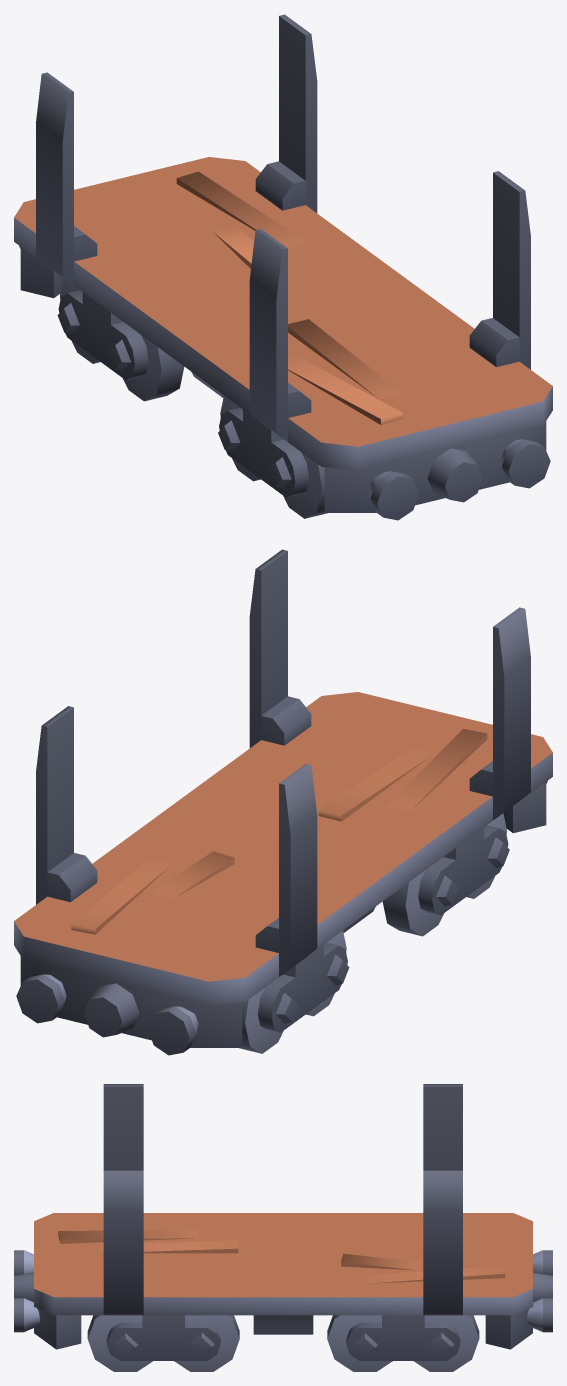
The model's file is train-carriage-flatbed-wood.glb.
3 views of the same model, one above another, from view 1: azimuth 30°, elevation 25°; view 2: azimuth 150°, elevation 25°; view 3: azimuth 270°, elevation 25° (orthographic). The views are drawn at different scales.
Parts seen in each view (by area): view 1: train-carriage-flatbed-wood, wheels-back, wheels-front; view 2: train-carriage-flatbed-wood, wheels-front, wheels-back; view 3: train-carriage-flatbed-wood, wheels-front, wheels-back.
Boxes of the visible parts, x1,y1,x2,y2 form: train-carriage-flatbed-wood: (14,14,552,520); wheels-back: (57,278,184,401); wheels-front: (218,396,327,518); train-carriage-flatbed-wood: (14,549,552,1055); wheels-front: (382,813,509,936); wheels-back: (239,931,349,1053); train-carriage-flatbed-wood: (14,1084,552,1349); wheels-front: (87,1315,239,1371); wheels-back: (327,1315,479,1371).
Size of the model in its own units: 1.1 by 1.16 by 2.7.
